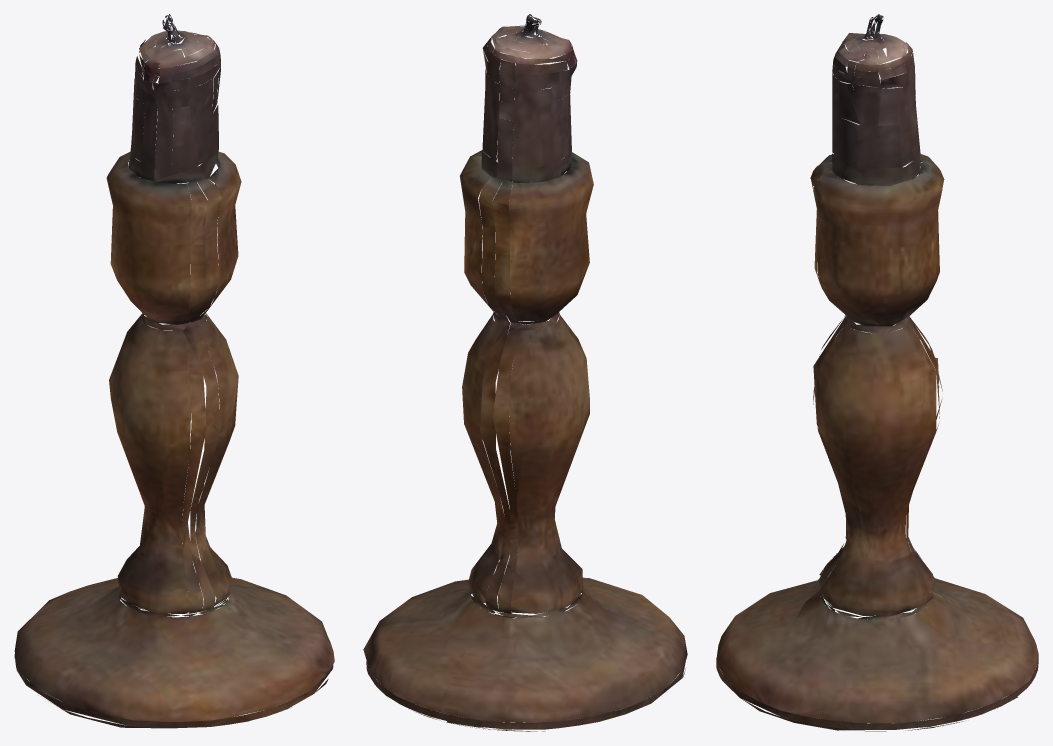
Rendered from candlestick.glb.
3 views of the same model, side by side, from view 1: azimuth 30°, elevation 25°; view 2: azimuth 150°, elevation 25°; view 3: azimuth 270°, elevation 25° (orthographic).
Parts seen in each view (by area): view 1: wooden_candlestick; view 2: wooden_candlestick; view 3: wooden_candlestick.
Boxes of the visible parts, <box> form: wooden_candlestick: <box>14,14,334,728</box>; wooden_candlestick: <box>363,14,687,731</box>; wooden_candlestick: <box>716,14,1038,731</box>.
Bounding box in the file's own units: 0.0979 × 0.2198 × 0.0986.
Materials: 1 (1 with a texture image).
